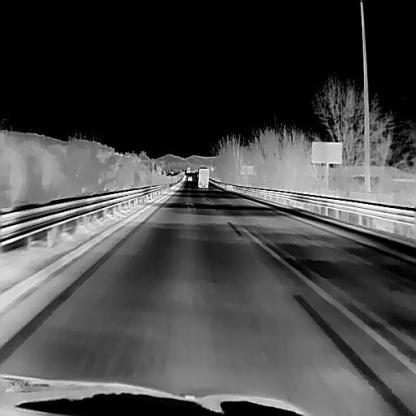car: (196, 166, 209, 187), (186, 173, 192, 180)
